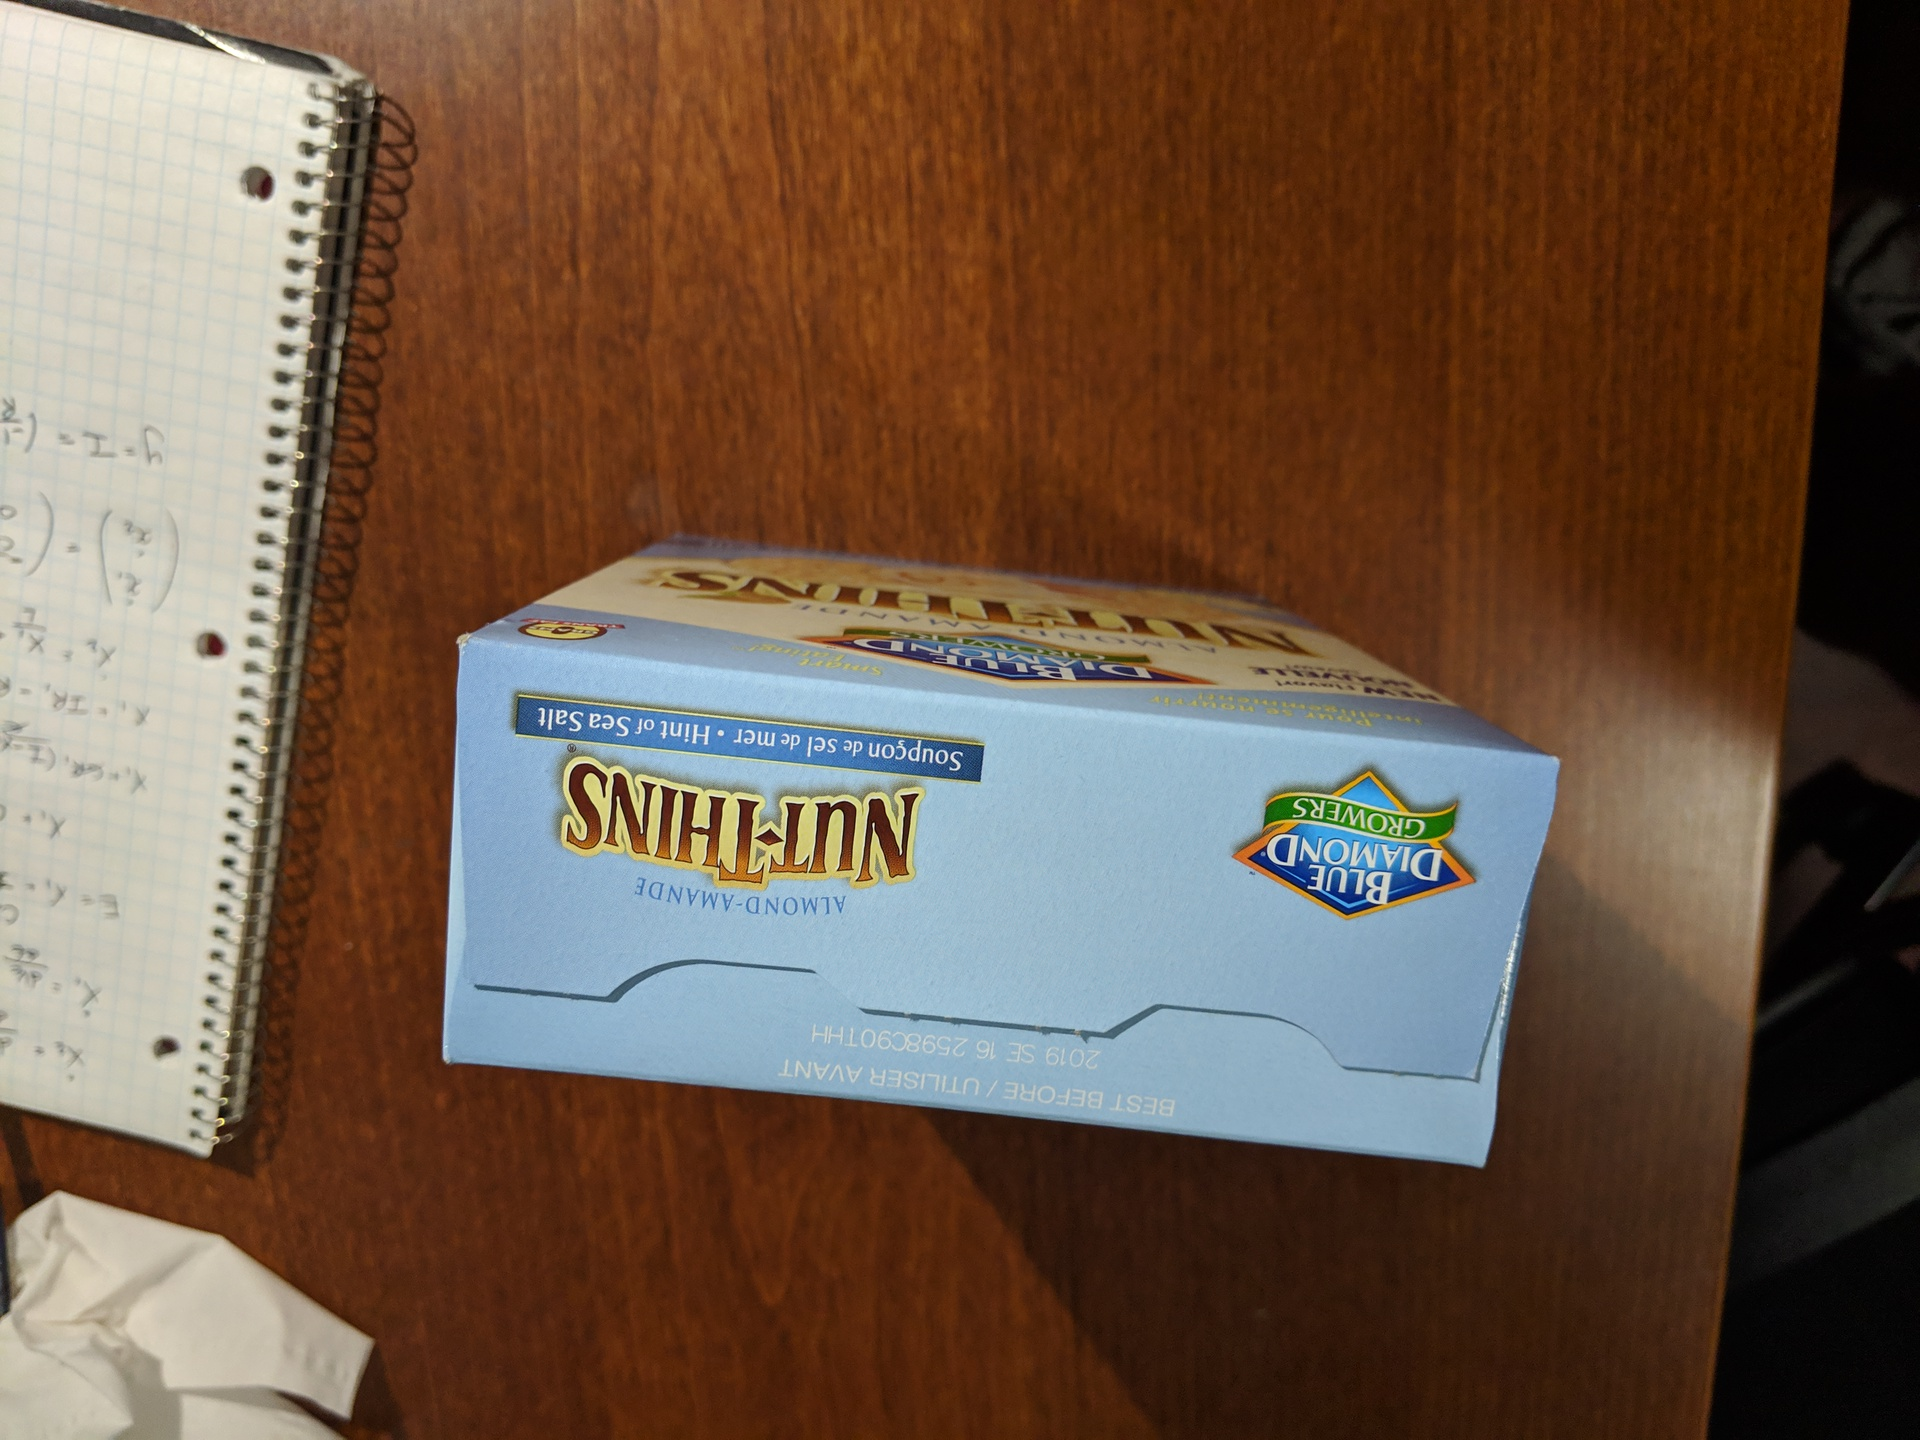blue_diamond_nut_thins_almond_seasalt: (452, 560, 1538, 1127)
